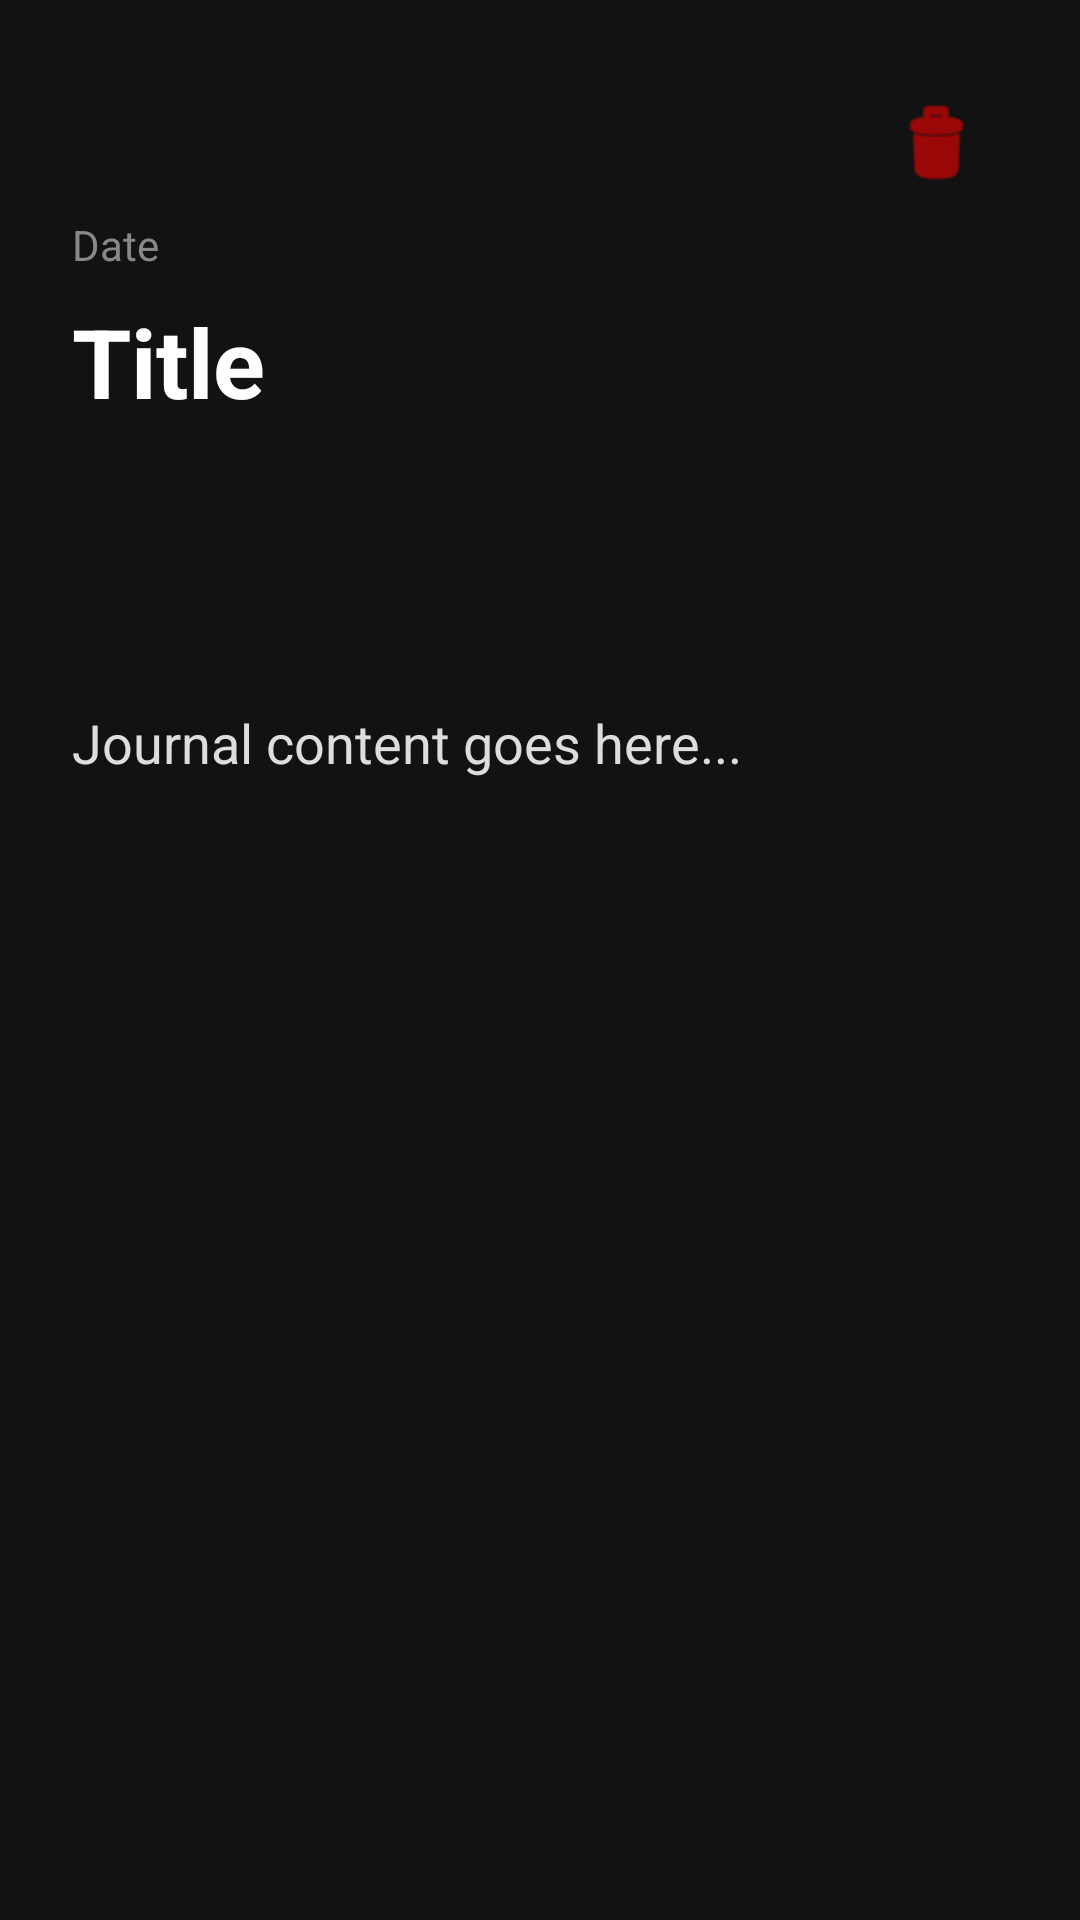

Where to tap for icons on this 1080×1920 app screen, as [x,y]:
delete: [936,142]
